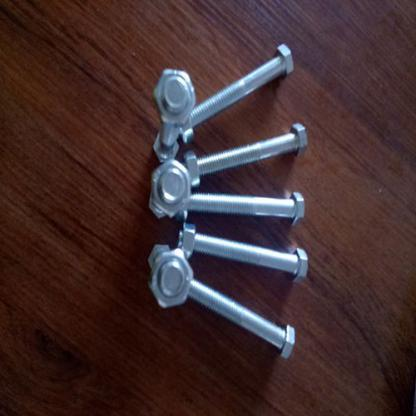FOD: (192, 233, 309, 284)
